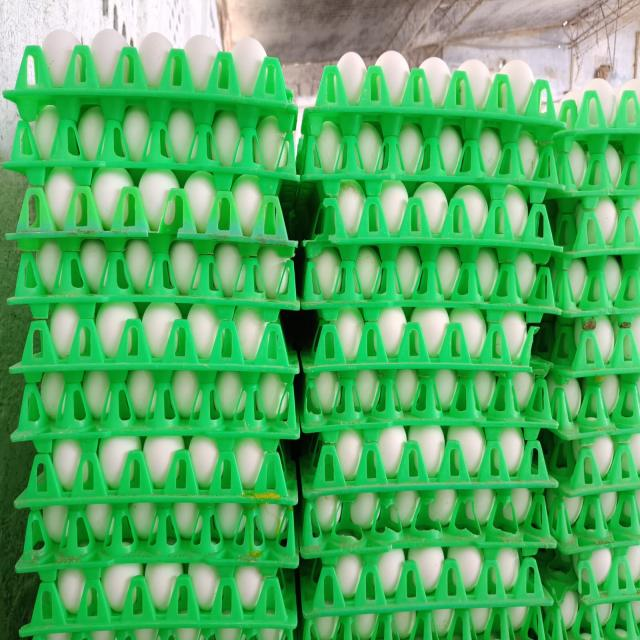egg_tray: (6, 30, 297, 187), (10, 171, 297, 313), (5, 29, 297, 131), (8, 169, 296, 254), (9, 238, 299, 317), (6, 106, 296, 185), (12, 302, 299, 381), (306, 51, 563, 139), (298, 117, 558, 202), (12, 369, 299, 446), (16, 502, 298, 579), (305, 180, 559, 264), (22, 562, 297, 639), (16, 434, 297, 508), (302, 243, 559, 322), (300, 425, 557, 499), (300, 369, 556, 439), (299, 488, 555, 558), (300, 546, 551, 617), (302, 307, 539, 377), (24, 502, 294, 563), (533, 314, 640, 439), (543, 417, 640, 553), (554, 79, 640, 197), (302, 602, 545, 639), (303, 602, 545, 639), (300, 603, 546, 639), (300, 605, 546, 639), (301, 606, 546, 639), (532, 313, 640, 383), (550, 192, 640, 268), (541, 429, 640, 497), (546, 370, 640, 441), (553, 78, 640, 154), (538, 545, 640, 605), (546, 490, 640, 555), (551, 253, 640, 318), (550, 136, 640, 199), (543, 582, 640, 639), (552, 375, 638, 420), (33, 627, 297, 639), (532, 317, 556, 375), (184, 631, 200, 638), (122, 170, 130, 182), (287, 185, 292, 201), (547, 202, 551, 211), (638, 199, 640, 214), (253, 557, 260, 561), (550, 380, 554, 386), (221, 185, 228, 188), (463, 603, 468, 607), (162, 634, 171, 636), (200, 449, 204, 453), (553, 637, 561, 639), (225, 553, 228, 558), (262, 550, 264, 556), (312, 124, 314, 130), (183, 175, 186, 178), (638, 451, 640, 455), (240, 114, 242, 118), (154, 114, 158, 116), (154, 622, 157, 624), (107, 179, 109, 182), (110, 175, 113, 177), (245, 554, 248, 556), (464, 604, 466, 607), (106, 185, 108, 187), (305, 613, 306, 617), (354, 126, 356, 128), (600, 637, 602, 639), (323, 187, 324, 191), (74, 635, 76, 637), (275, 635, 277, 637), (487, 638, 490, 639), (96, 174, 99, 175), (283, 545, 286, 546), (494, 195, 497, 196), (176, 636, 179, 637), (231, 635, 234, 636), (243, 554, 245, 555), (38, 638, 40, 639), (638, 458, 640, 459), (560, 145, 561, 147), (318, 182, 320, 183), (226, 178, 228, 179), (558, 638, 560, 639), (48, 636, 50, 637), (112, 185, 113, 186), (94, 181, 95, 182), (550, 396, 551, 397), (212, 243, 213, 244), (65, 629, 66, 630), (322, 183, 323, 184), (108, 177, 109, 177), (90, 543, 90, 543), (558, 639, 559, 639), (154, 634, 154, 635), (160, 43, 162, 43), (568, 323, 568, 323), (638, 252, 640, 252), (432, 258, 432, 259), (314, 252, 317, 252), (634, 468, 634, 470), (245, 118, 245, 119), (638, 292, 640, 292), (554, 639, 555, 639), (77, 636, 80, 636), (143, 632, 143, 633)
